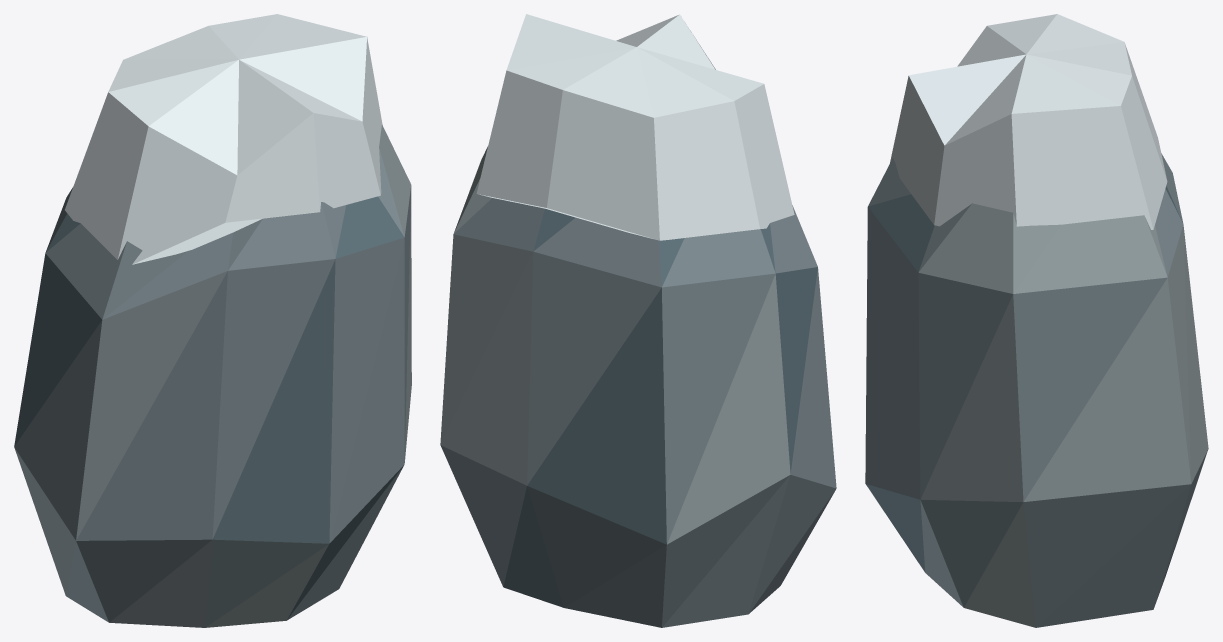
Rendered from ROCK_04_TallBoulder.glb.
3 views of the same model, side by side, from view 1: azimuth 30°, elevation 25°; view 2: azimuth 150°, elevation 25°; view 3: azimuth 270°, elevation 25° (orthographic). The views are drawn at different scales.
Visible parts, largest first — view 1: ROCK_04_TallBoulder; view 2: ROCK_04_TallBoulder; view 3: ROCK_04_TallBoulder.
Part boxes in pixels (left/top/right/bottom): ROCK_04_TallBoulder: left=14, top=14, right=411, bottom=627; ROCK_04_TallBoulder: left=440, top=14, right=836, bottom=627; ROCK_04_TallBoulder: left=865, top=14, right=1208, bottom=627.
Size of the model in its own units: 2.39 by 3.3 by 1.97.
